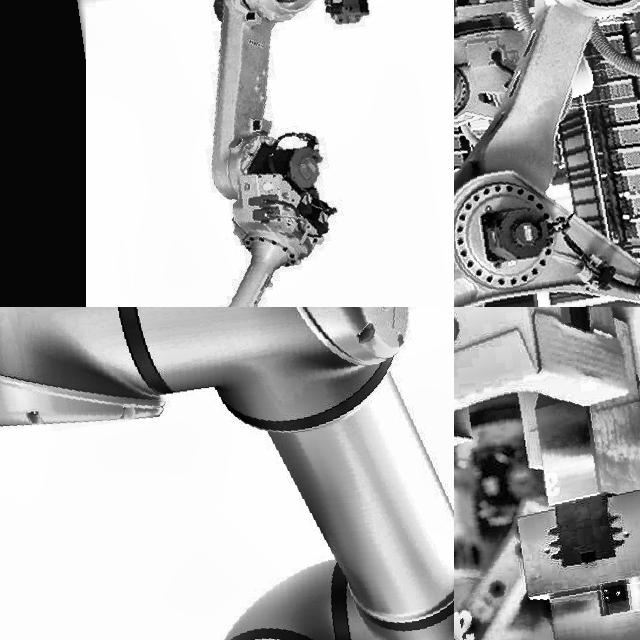robot: (0, 307, 454, 640), (83, 0, 454, 307), (454, 307, 640, 640), (454, 0, 640, 307), (454, 0, 640, 124)
